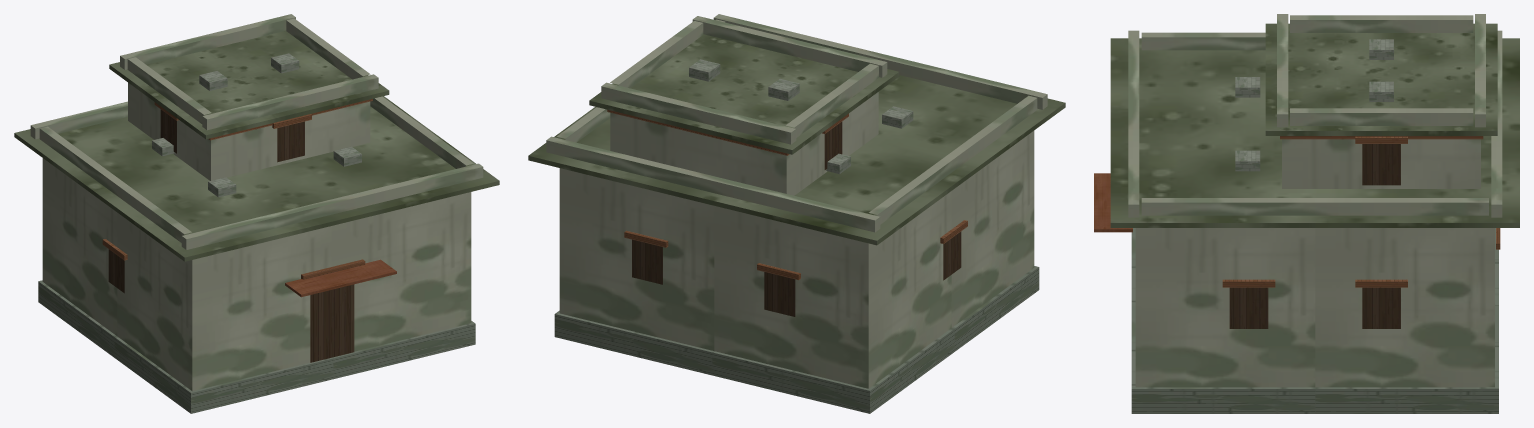
The model's file is ae_jungle_stone_large_terrace_lod1.glb.
3 renders of one model, left to right at view 1: azimuth 30°, elevation 25°; view 2: azimuth 150°, elevation 25°; view 3: azimuth 270°, elevation 25°, orthographic. The views are drawn at different scales.
Visible parts, largest first — view 1: ae_jungle_stone_large_terrace_lod1; view 2: ae_jungle_stone_large_terrace_lod1; view 3: ae_jungle_stone_large_terrace_lod1.
Boxes of the visible parts, x1=… form: ae_jungle_stone_large_terrace_lod1: x1=14, y1=14, x2=499, y2=413; ae_jungle_stone_large_terrace_lod1: x1=528, y1=14, x2=1065, y2=413; ae_jungle_stone_large_terrace_lod1: x1=1094, y1=14, x2=1519, y2=413.
Bounding box in the file's own units: 7.9 × 5.55 × 7.7.
Materials: 1 (1 with a texture image).
